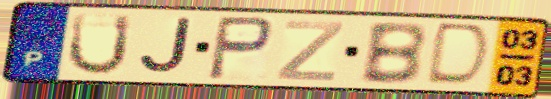B: (357, 21, 429, 87)
D: (421, 20, 494, 89)
J: (136, 16, 194, 77)
P: (204, 14, 276, 83)
U: (64, 11, 135, 77)
Z: (274, 19, 347, 83)
